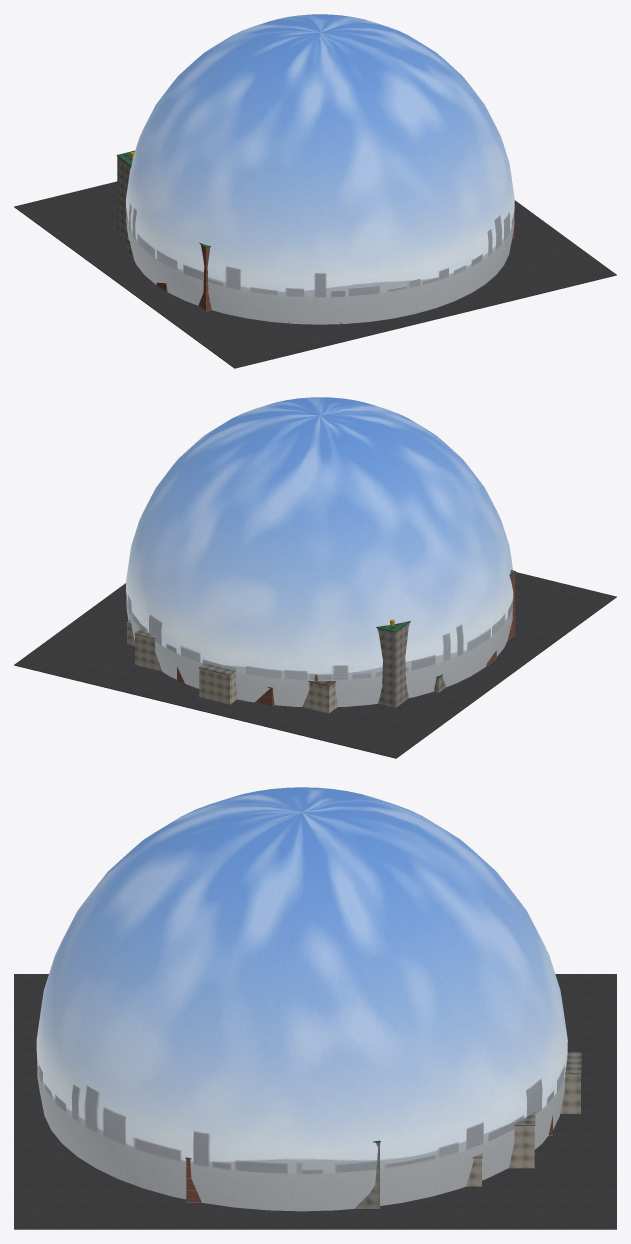
The model's file is prologue_rooftop.glb.
3 renders of one model, top to bottom at view 1: azimuth 30°, elevation 25°; view 2: azimuth 150°, elevation 25°; view 3: azimuth 270°, elevation 25°, orthographic. The views are drawn at different scales.
Visible parts, largest first — view 1: sky_backdrop, far; view 2: sky_backdrop, far; view 3: sky_backdrop, far.
Boxes of the visible parts, bbox=[...] form: sky_backdrop: bbox=[126, 14, 514, 324]; far: bbox=[14, 150, 616, 368]; sky_backdrop: bbox=[126, 397, 513, 706]; far: bbox=[14, 570, 616, 758]; sky_backdrop: bbox=[36, 787, 567, 1211]; far: bbox=[14, 974, 616, 1229].
Bounding box in the file's own units: 136 × 74.92 × 136.
61 materials, 30 textured.
